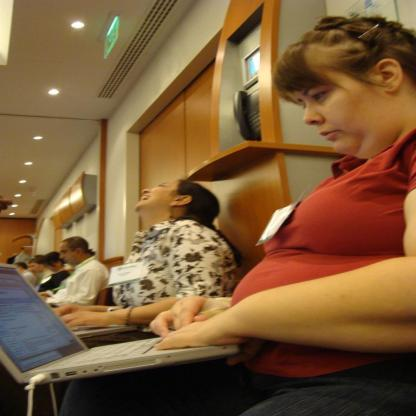board: (0, 262, 236, 384)
